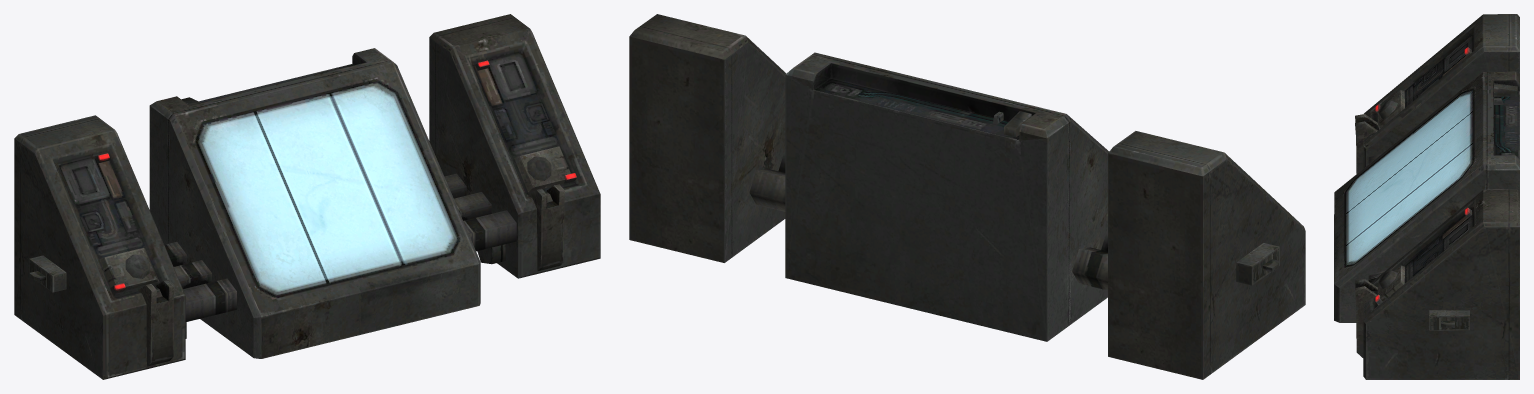
File: scan_machine_quarantine_ceiling.DAE
3 views of the same model, side by side, from view 1: azimuth 30°, elevation 25°; view 2: azimuth 150°, elevation 25°; view 3: azimuth 270°, elevation 25° (orthographic). The views are drawn at different scales.
Parts seen in each view (by area): view 1: scan_machine_quarantine_ceiling; view 2: scan_machine_quarantine_ceiling; view 3: scan_machine_quarantine_ceiling.
Part boxes in pixels (<box>): scan_machine_quarantine_ceiling: <box>14,14,600,379</box>; scan_machine_quarantine_ceiling: <box>629,14,1305,379</box>; scan_machine_quarantine_ceiling: <box>1334,14,1519,379</box>.
Bounding box in the file's own units: 2.88 × 0.9873 × 0.9199.
